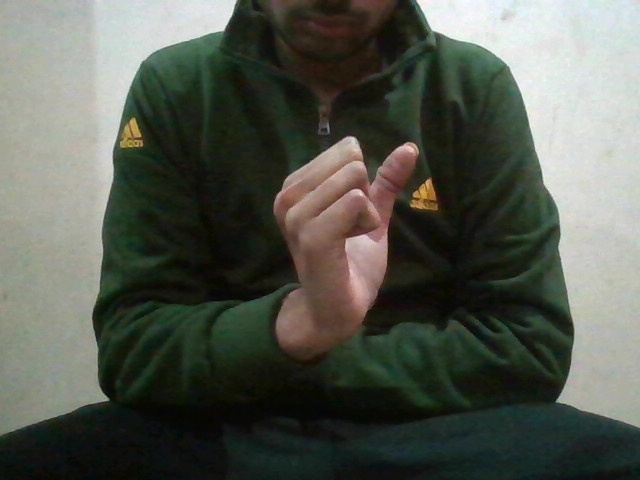S: (268, 129, 415, 330)
